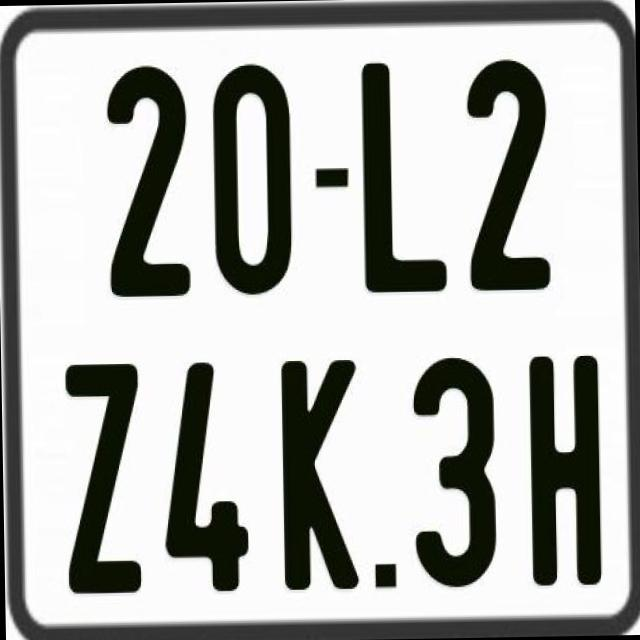0: (212, 62, 300, 298)
2: (466, 57, 553, 290), (104, 65, 188, 298)
3: (408, 354, 496, 588)
4: (160, 356, 254, 594)
H: (526, 350, 602, 580)
K: (278, 360, 358, 590)
L: (361, 59, 452, 288)
Z: (62, 360, 146, 590)
